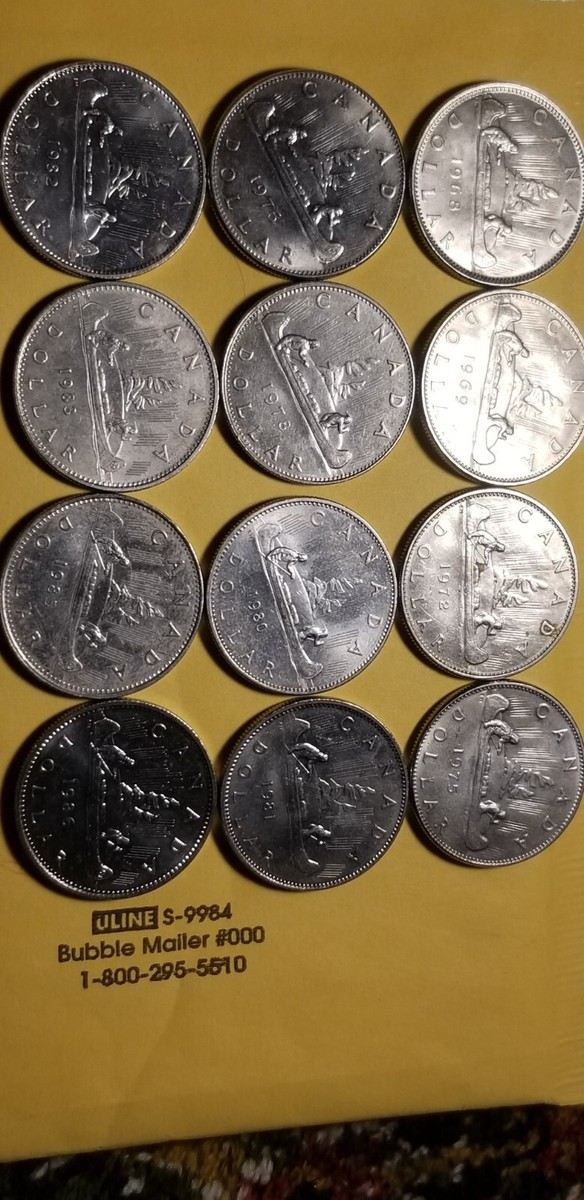coin: (0, 61, 204, 278), (15, 283, 217, 490), (1, 494, 202, 697), (209, 70, 404, 277), (17, 700, 215, 899), (222, 282, 413, 482), (207, 498, 395, 693), (221, 699, 407, 890), (412, 83, 583, 286), (401, 489, 576, 678), (410, 680, 583, 865), (421, 290, 583, 483)
